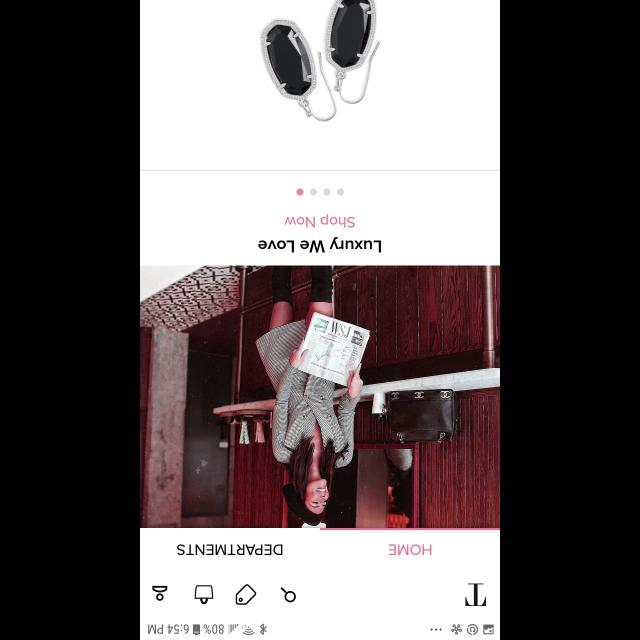icon: (236, 584, 256, 604), (194, 584, 213, 604), (280, 586, 296, 602), (152, 586, 168, 600)
image: (140, 265, 500, 527), (260, 0, 380, 122)
pageindicator: (296, 188, 344, 196)
text: (258, 236, 382, 252), (177, 544, 283, 554), (285, 213, 355, 227), (464, 582, 486, 606), (388, 544, 432, 554)
uppertaskbar: (140, 623, 500, 639)
